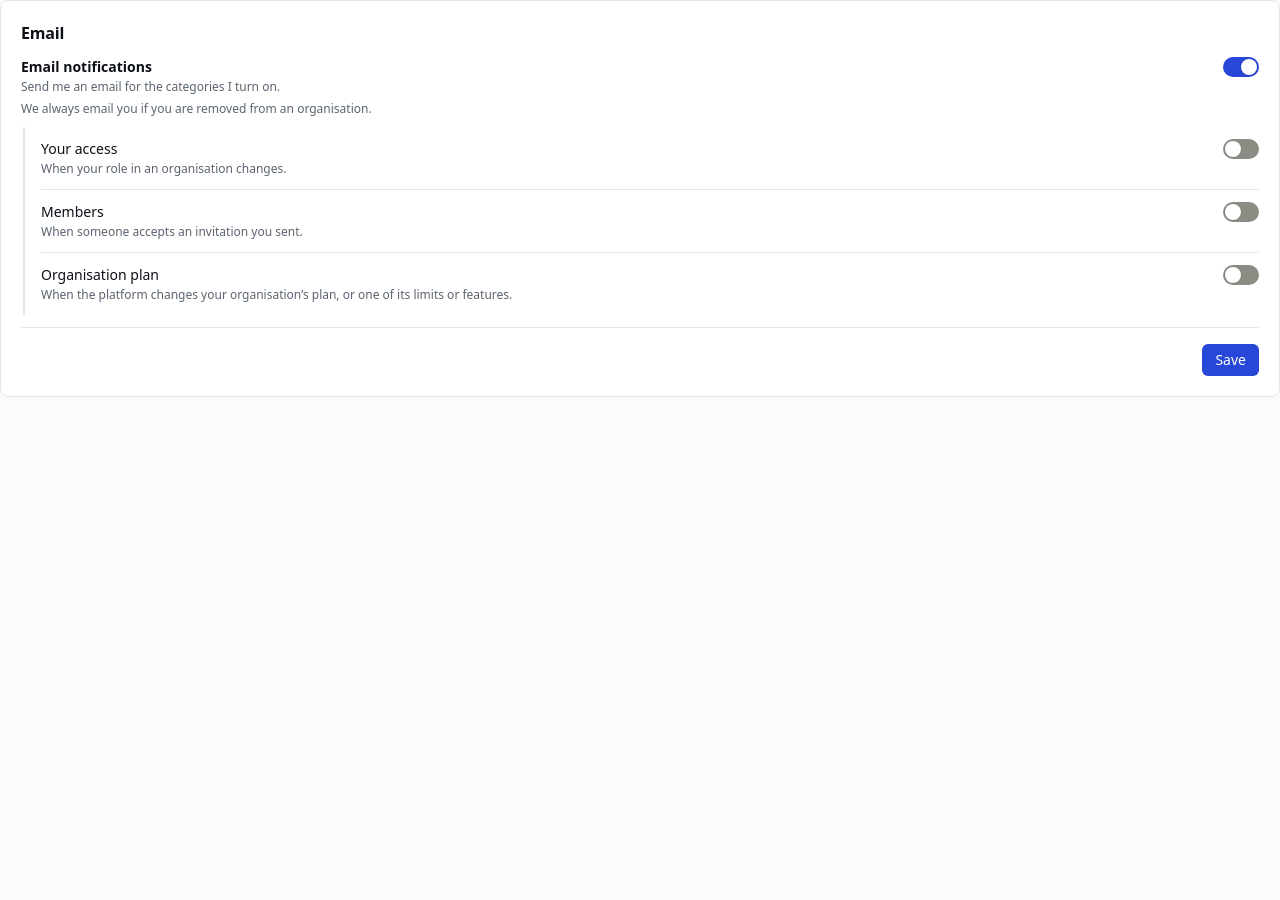
Test case: NotificationPreferences › NotificationPreferences_Save_SendsTheMainSwitchAndEveryCategory
This screenshot has width=1280, height=900.
Click the switch named "Members" in the row of "Members". click: (1241, 212)
box: [1223,202,1259,222]
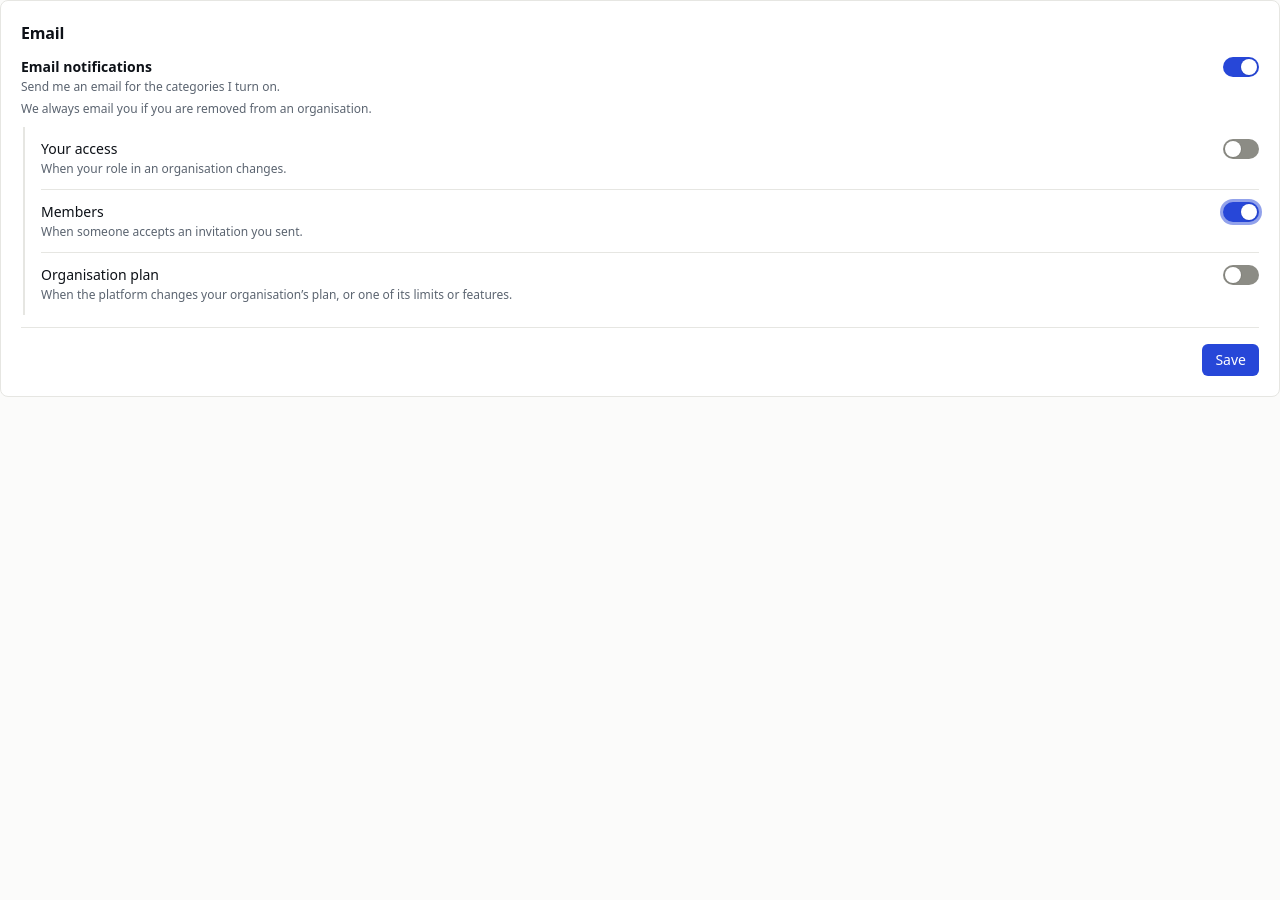
Click the button "Save". click: (1231, 360)
box: [1202,344,1259,376]
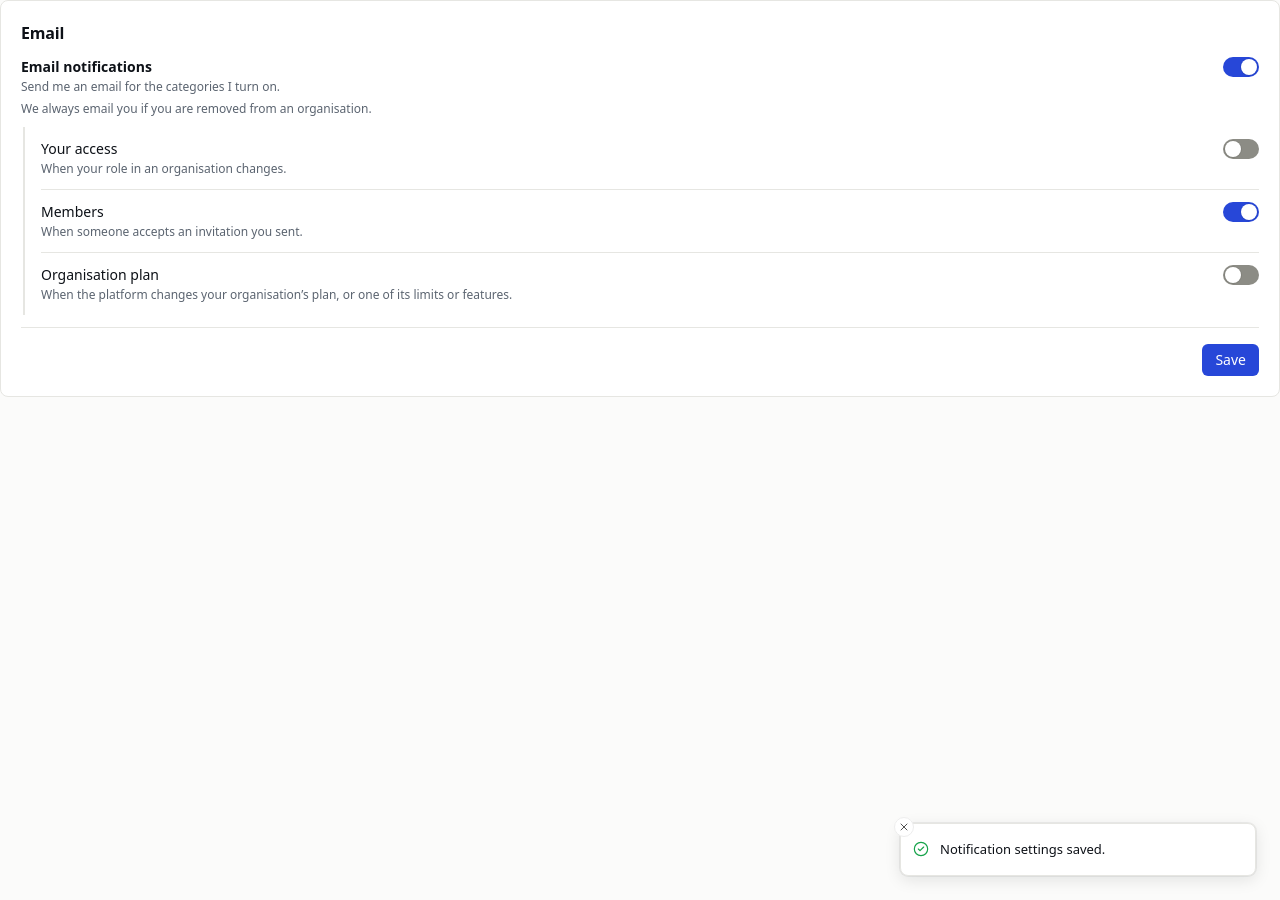
Check: the list item "Notification settings saved." is shown, box [900,822,1256,876]
Check: the text "Notification settings saved." is shown, box [940,840,1105,859]
